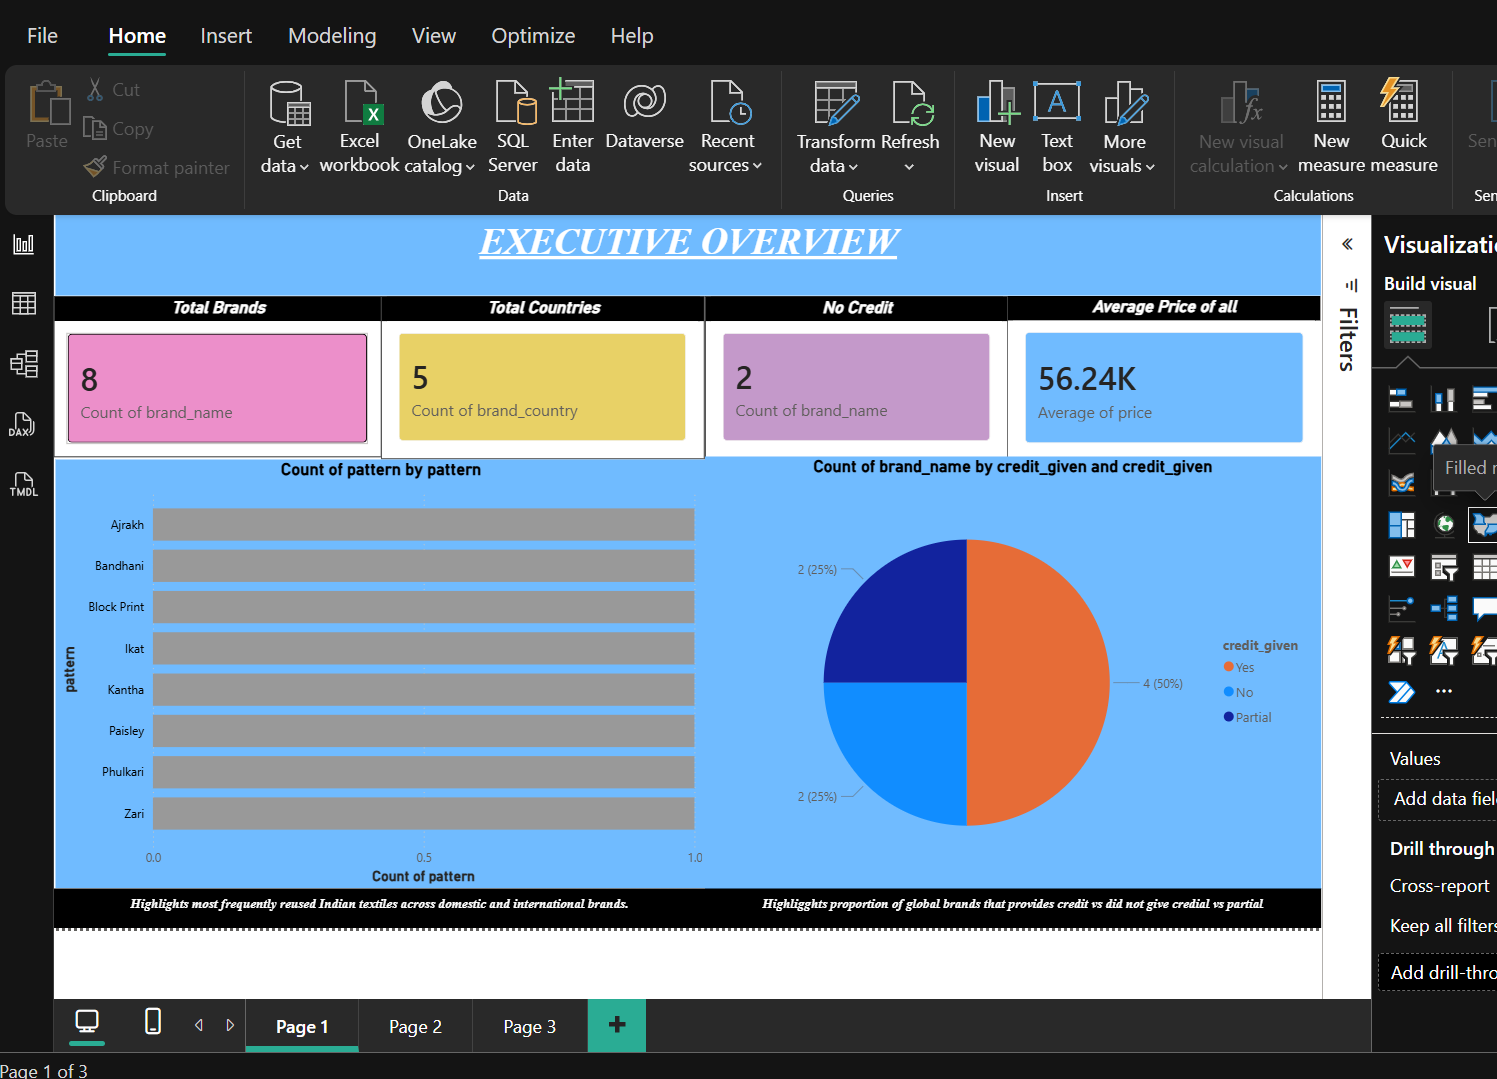

What the dashboard file says about the page in this screenshot:
{"tool":"powerbi","page":{"name":"Page 1","canvas":[1280,720],"ordinal":0},"visuals":[{"type":"cardVisual","title":"Total Brands","fields":{"Data":["Count(public textile_designs.brand_name)"]},"box":[0,81.3,330.7,162.5],"z":0},{"type":"cardVisual","title":"Total Countries","fields":{"Data":["Count(public textile_designs.brand_country)"]},"box":[330.7,81.3,326.9,164.4],"z":1000},{"type":"cardVisual","title":"No Credit","fields":{"Data":["Count(public textile_designs.brand_name)"]},"box":[657.6,81.3,306.1,164.4],"z":2000},{"type":"cardVisual","title":"Average Price of all","fields":{"Data":["Avg(public textile_designs.price)"]},"box":[963.8,81.3,315.6,166.3],"z":3000},{"type":"clusteredBarChart","fields":{"Category":["public textile_designs.pattern"],"Y":["CountNonNull(public textile_designs.pattern)"]},"box":[1.9,247.6,657.6,432.8],"z":4000},{"type":"textbox","box":[0,680.3,657.6,39.7],"z":5000},{"type":"pieChart","fields":{"Category":["public textile_designs.credit_given"],"Series":["public textile_designs.credit_given"],"Y":["CountNonNull(public textile_designs.brand_name)"]},"box":[657.6,243.8,621.7,436.5],"z":6000},{"type":"textbox","box":[657.6,680.3,621.7,39.7],"z":7000},{"type":"textbox","box":[1.9,0,1277.5,81.3],"z":8000}]}

Visuals, with their boxes on the page's 1280x720 design canvas (x1, y1, x2, y2). These are canvas units, not pixel positions in the 1497x1079 screenshot, which may show the page scaled, cropped or inside an application window:
"Total Brands" cardVisual: x1=0, y1=81, x2=331, y2=244
"Total Countries" cardVisual: x1=331, y1=81, x2=658, y2=246
"No Credit" cardVisual: x1=658, y1=81, x2=964, y2=246
"Average Price of all" cardVisual: x1=964, y1=81, x2=1279, y2=248
clusteredBarChart - public textile_designs.pattern x CountNonNull(public textile_designs.pattern): x1=2, y1=248, x2=660, y2=680
textbox: x1=0, y1=680, x2=658, y2=720
pieChart - public textile_designs.credit_given x public textile_designs.credit_given: x1=658, y1=244, x2=1279, y2=680
textbox: x1=658, y1=680, x2=1279, y2=720
textbox: x1=2, y1=0, x2=1279, y2=81
